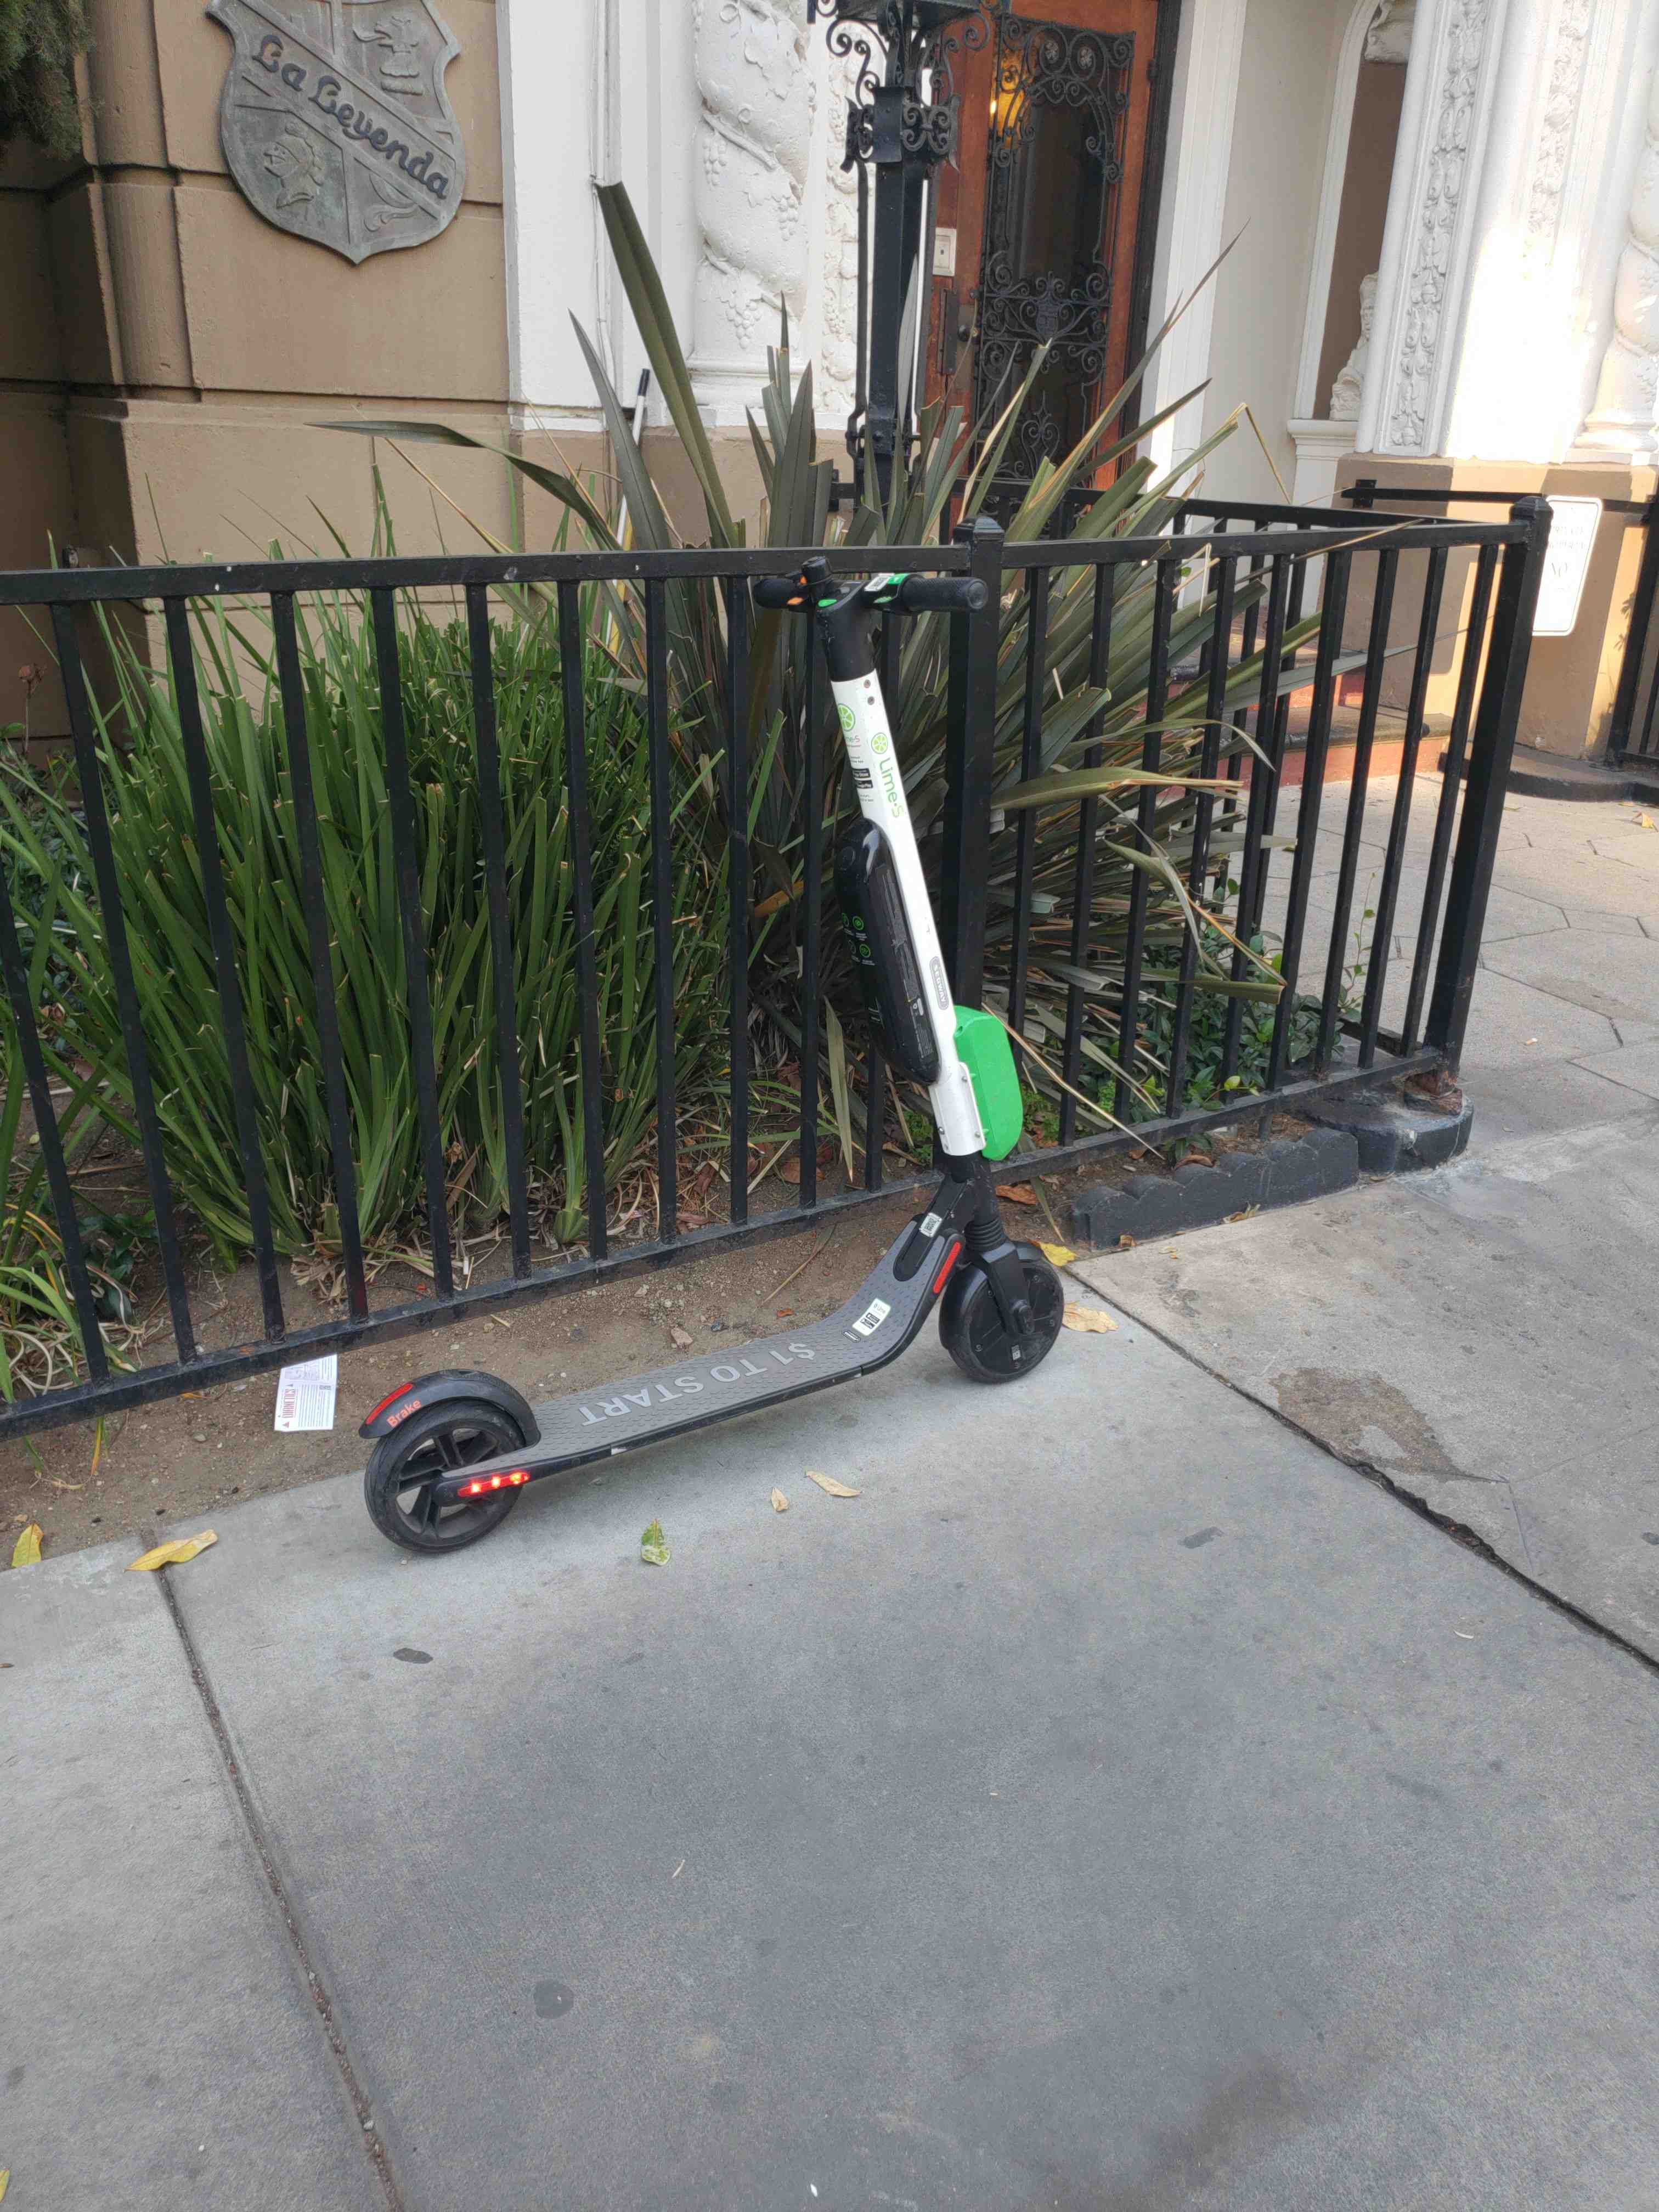scooter: (335, 484, 1087, 1557)
